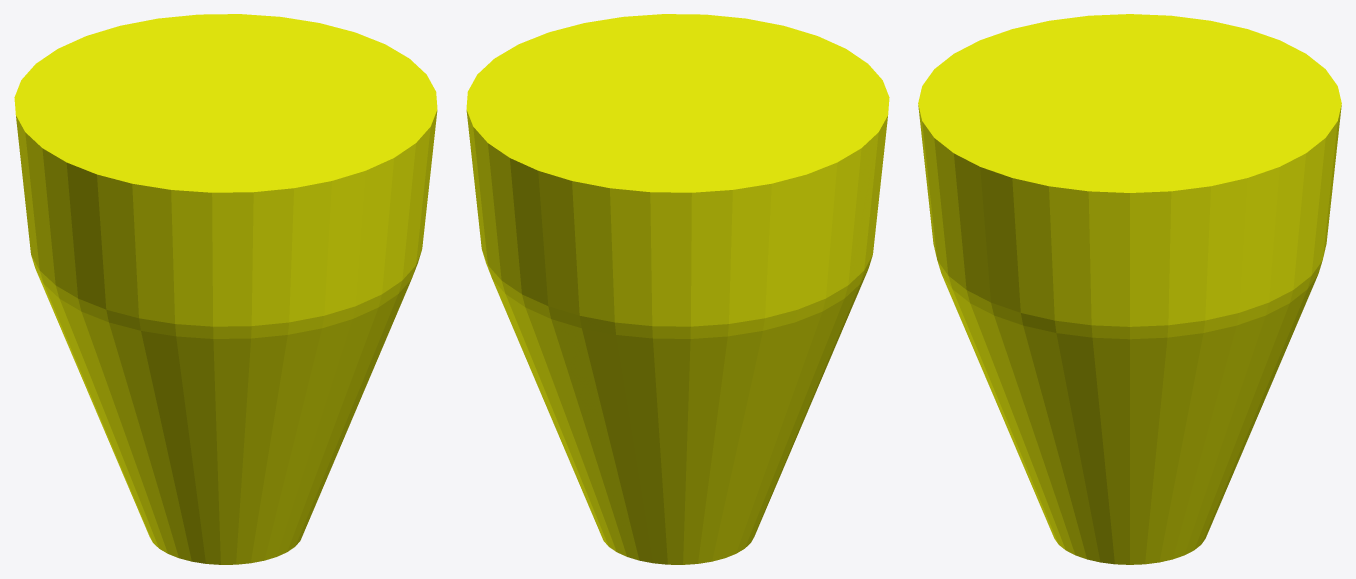
Rendered from tanklevel_full.gltf.
3 renders of one model, left to right at view 1: azimuth 30°, elevation 25°; view 2: azimuth 150°, elevation 25°; view 3: azimuth 270°, elevation 25°, orthographic.
Parts seen in each view (by area): view 1: Tank.001; view 2: Tank.001; view 3: Tank.001.
Boxes of the visible parts, x1=… form: Tank.001: x1=14, y1=14, x2=437, y2=564; Tank.001: x1=466, y1=14, x2=889, y2=564; Tank.001: x1=918, y1=14, x2=1341, y2=564.
Size of the model in its own units: 5.33 by 5.95 by 5.33.
